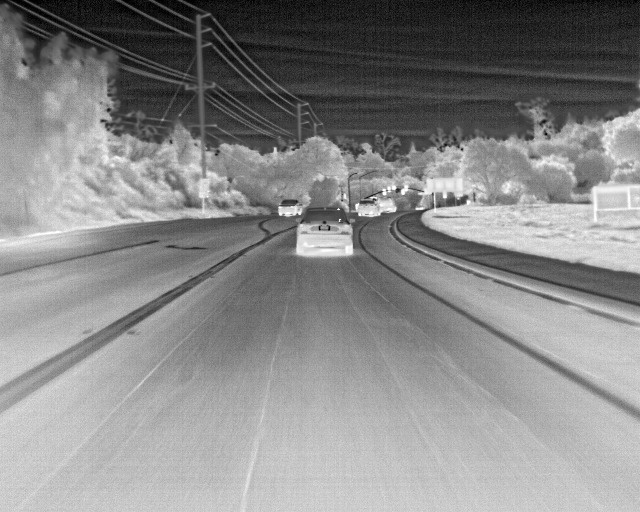vehicle: (297, 206, 352, 256), (356, 201, 379, 216), (278, 199, 297, 217), (376, 199, 398, 213)
